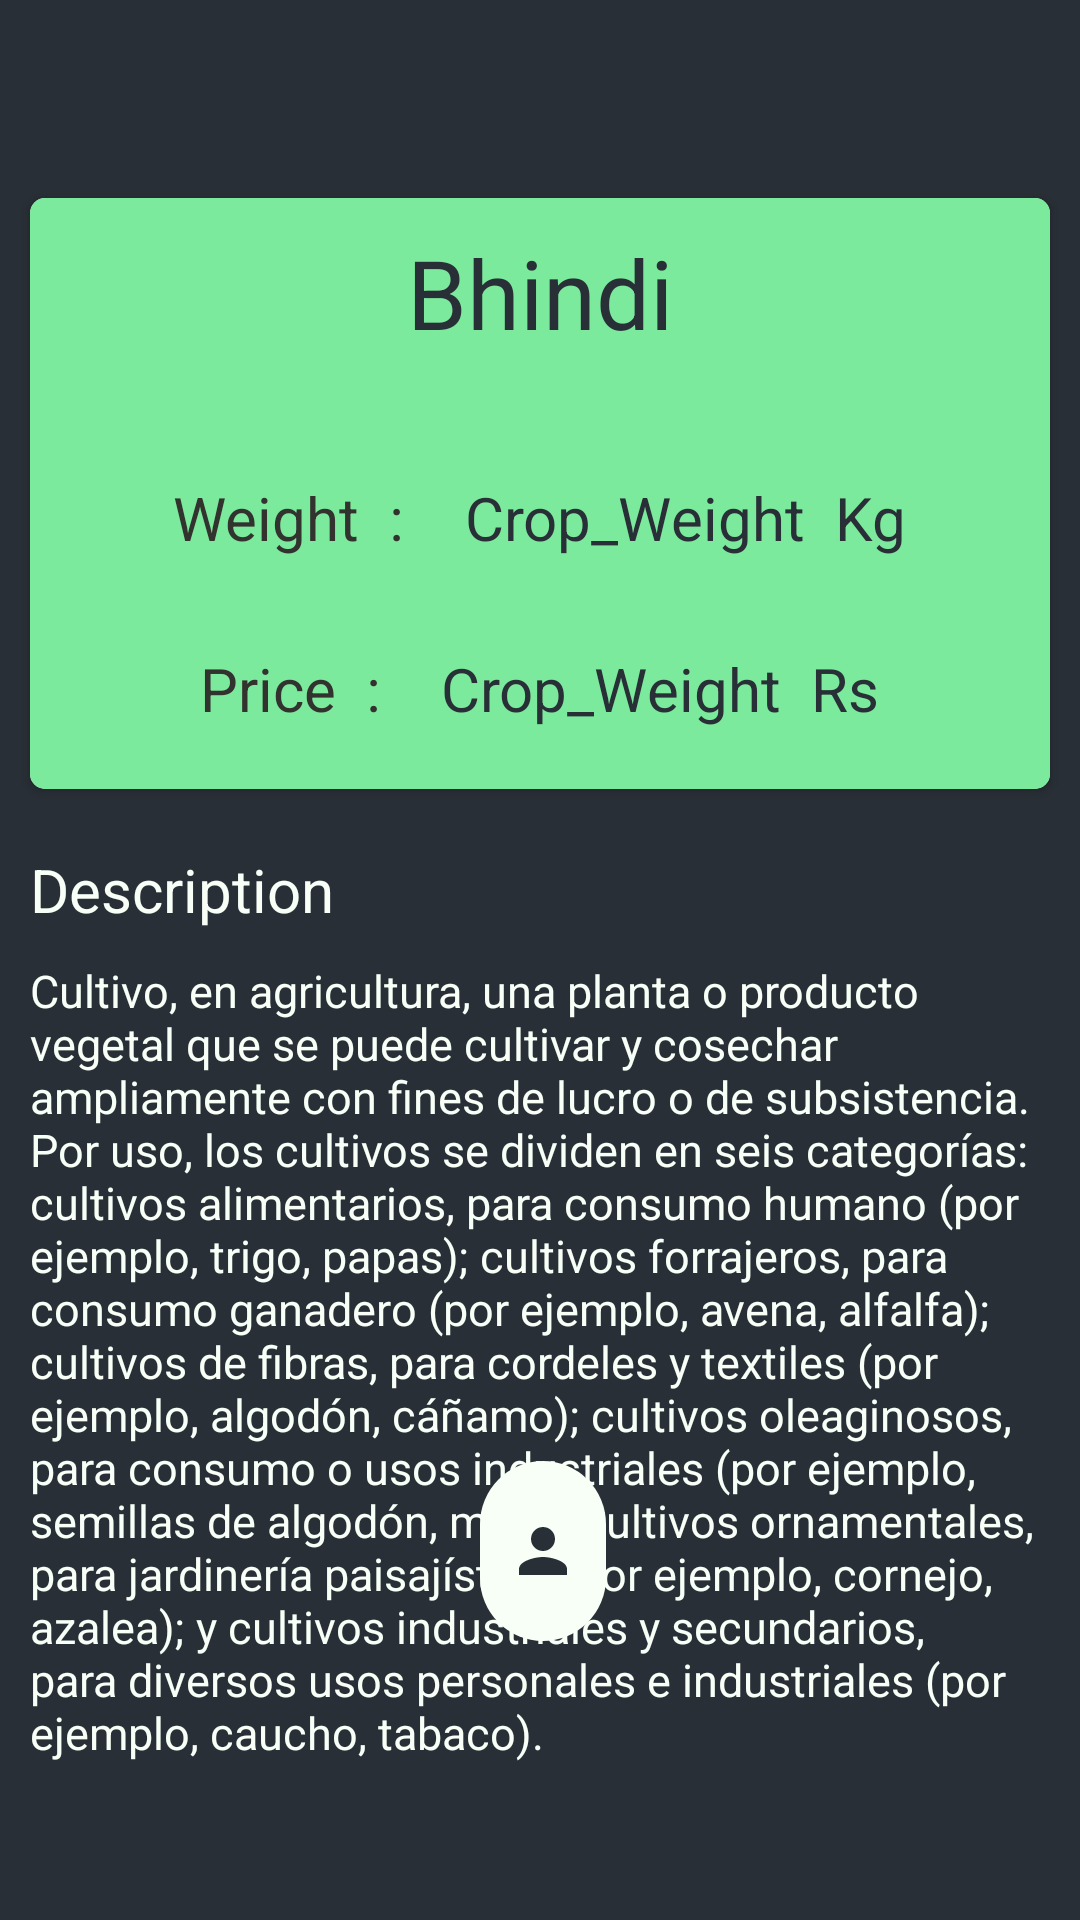

Icons on this 1080 x 1920 Android screen, each with the point to tap as (x,y):
person invert: (543,1551)
